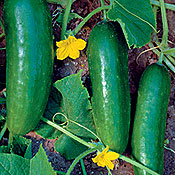cucumber: (5, 0, 55, 135), (85, 18, 131, 155), (134, 60, 174, 174)
